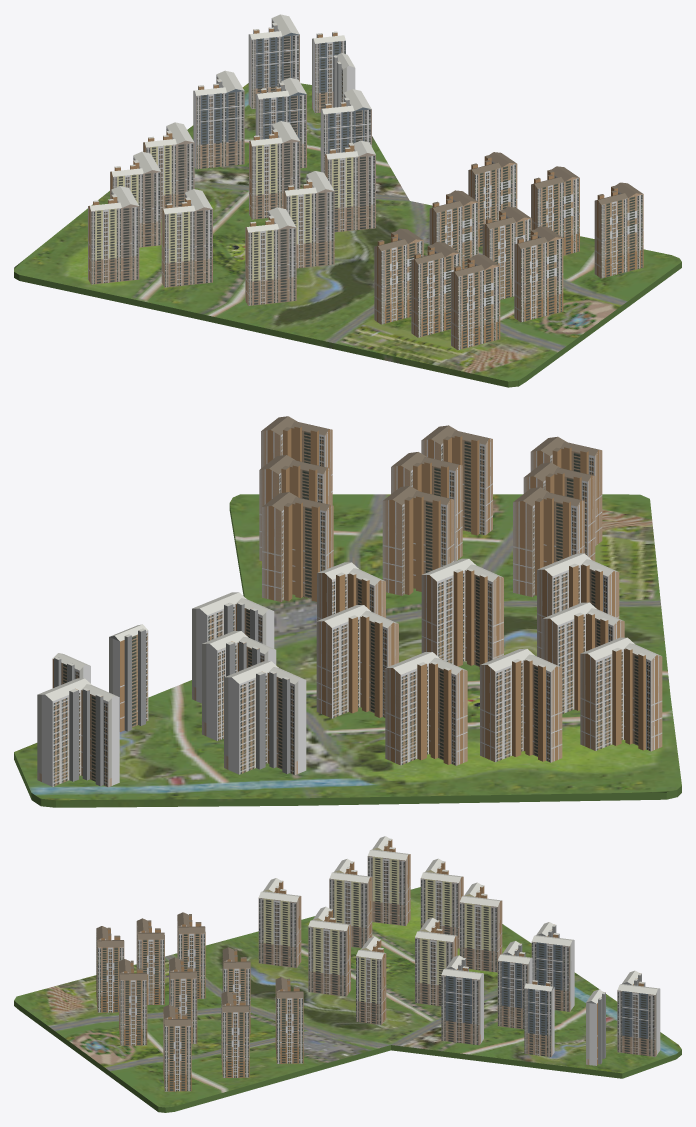
The model's file is ICJ00104.glb.
3 renders of one model, top to bottom at view 1: azimuth 30°, elevation 25°; view 2: azimuth 150°, elevation 25°; view 3: azimuth 270°, elevation 25°, orthographic. The views are drawn at different scales.
Visible parts, largest first — view 1: MainBuilding; view 2: MainBuilding; view 3: MainBuilding.
Boxes of the visible parts, left/top/right/bottom form: MainBuilding: left=14, top=14, right=681, bottom=387; MainBuilding: left=14, top=416, right=681, bottom=807; MainBuilding: left=14, top=836, right=681, bottom=1112.
Size of the model in its own units: 3525 by 542 by 4451.
1 material, 1 textured.
